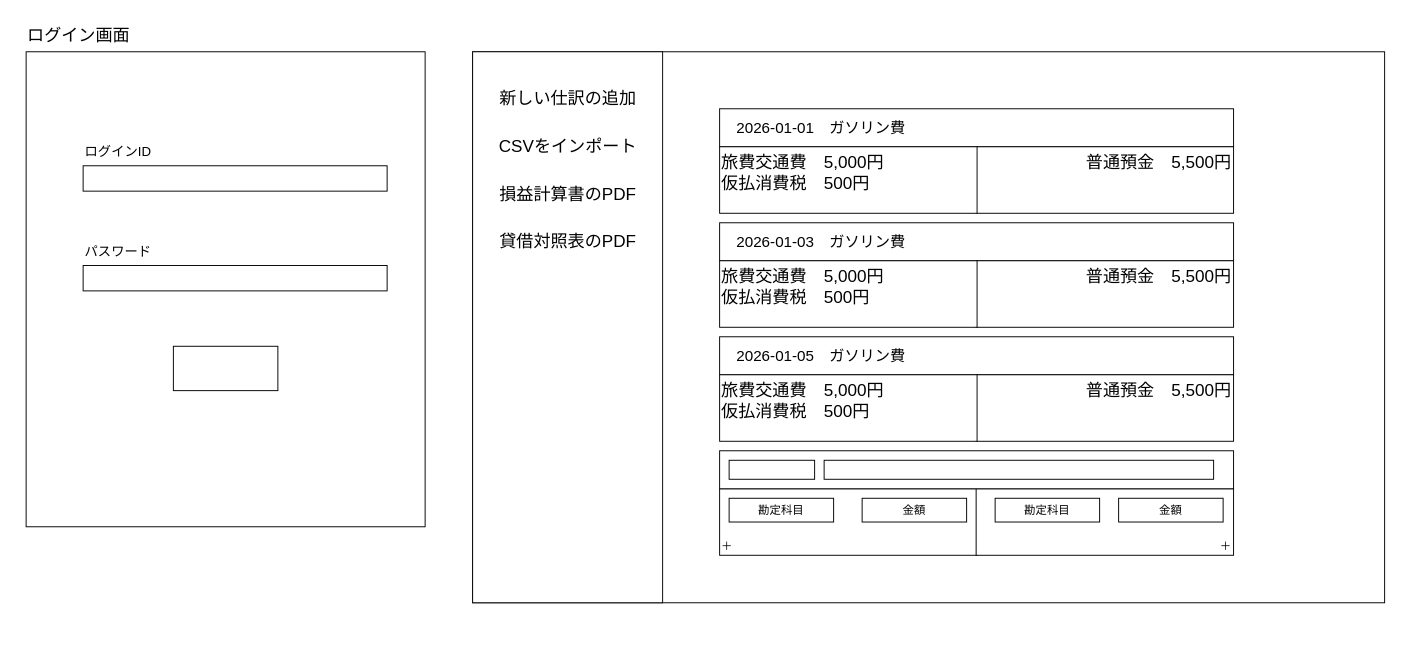
Image size: 1401x666. Some labels were removed from this diagram. Each missing label, with the box of its shape:
ログイン: (172, 345, 278, 391)
摘要: (823, 459, 1214, 479)
日付: (728, 459, 815, 479)
